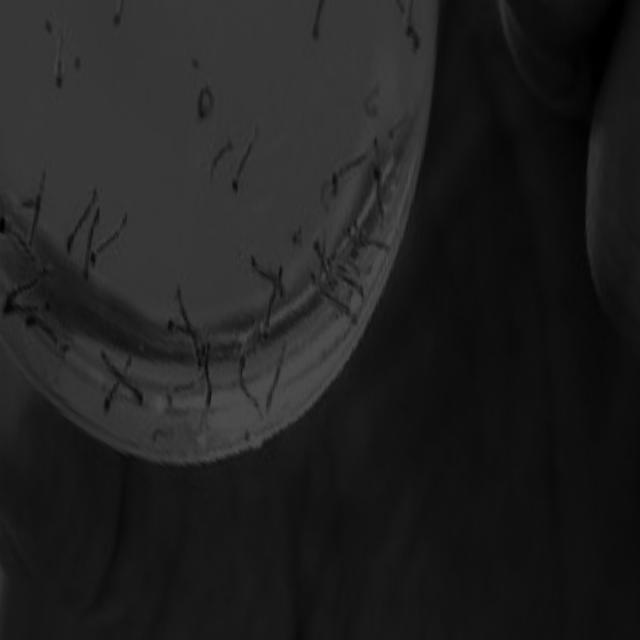larvas: (62, 183, 101, 263), (99, 348, 148, 411), (177, 290, 205, 370), (90, 213, 130, 268), (80, 208, 102, 284), (232, 136, 258, 192), (266, 347, 286, 414), (239, 354, 262, 411), (332, 152, 368, 187), (30, 169, 46, 246), (0, 216, 28, 256), (317, 291, 353, 322), (261, 284, 278, 336), (53, 22, 66, 88), (212, 136, 232, 178), (27, 317, 56, 345), (250, 256, 281, 278), (374, 164, 386, 216), (8, 280, 36, 302), (313, 240, 329, 276), (387, 116, 407, 142), (363, 84, 380, 114), (311, 1, 325, 37), (198, 88, 214, 119), (339, 277, 364, 296), (364, 234, 386, 255), (206, 342, 213, 401), (407, 4, 417, 45), (168, 320, 186, 339), (5, 304, 40, 313), (104, 382, 114, 409), (113, 1, 124, 23)
